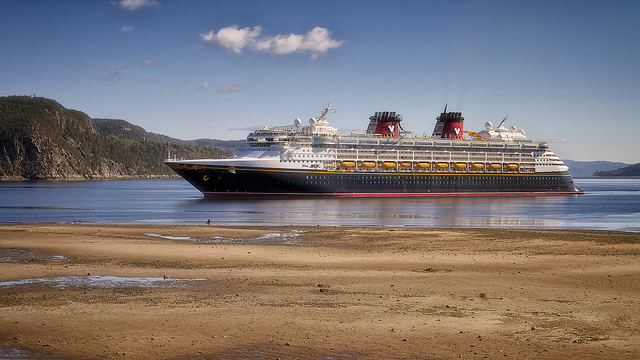cruise_ship: (172, 105, 595, 199)
